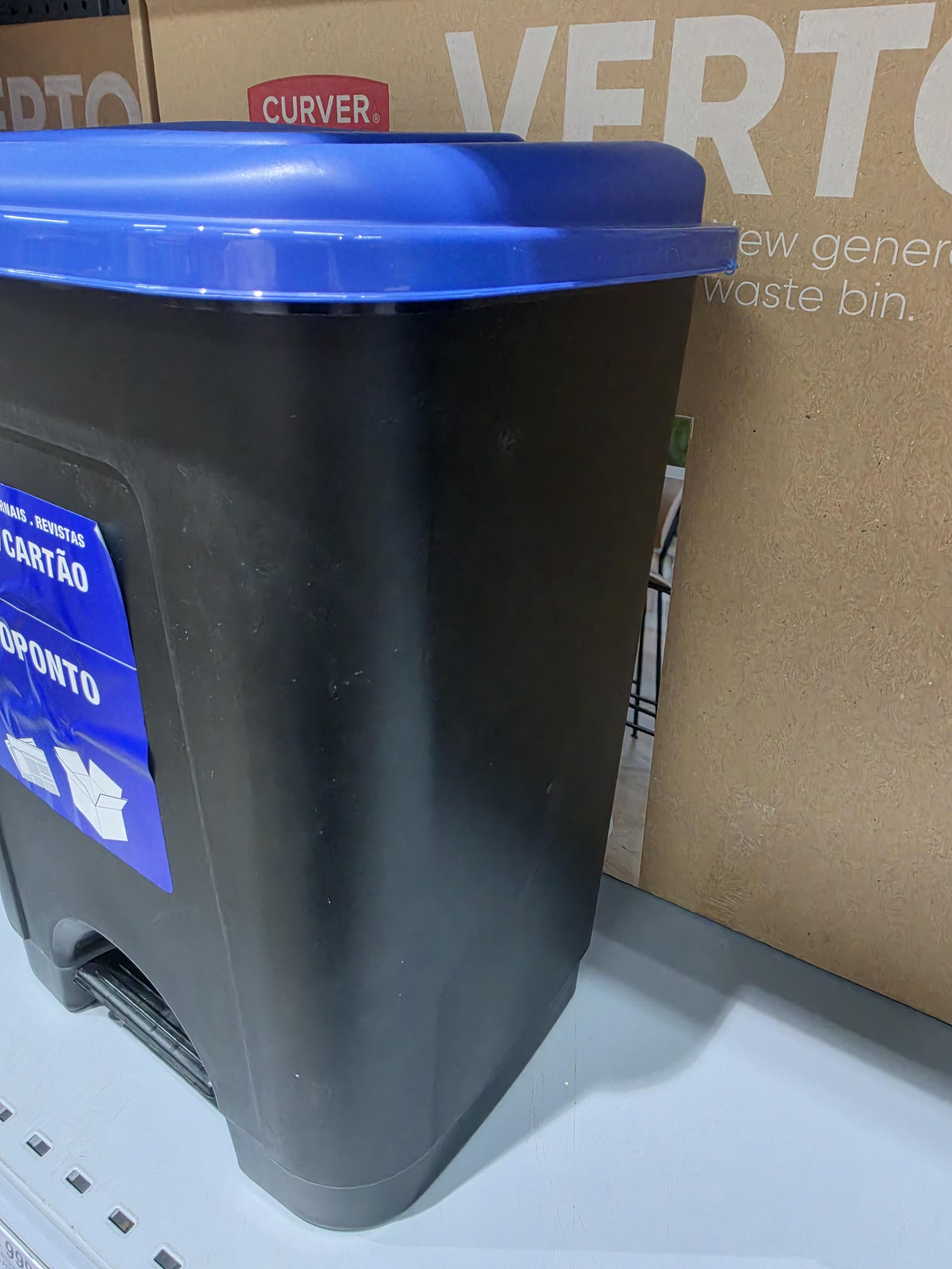bin: (0, 121, 740, 1232)
